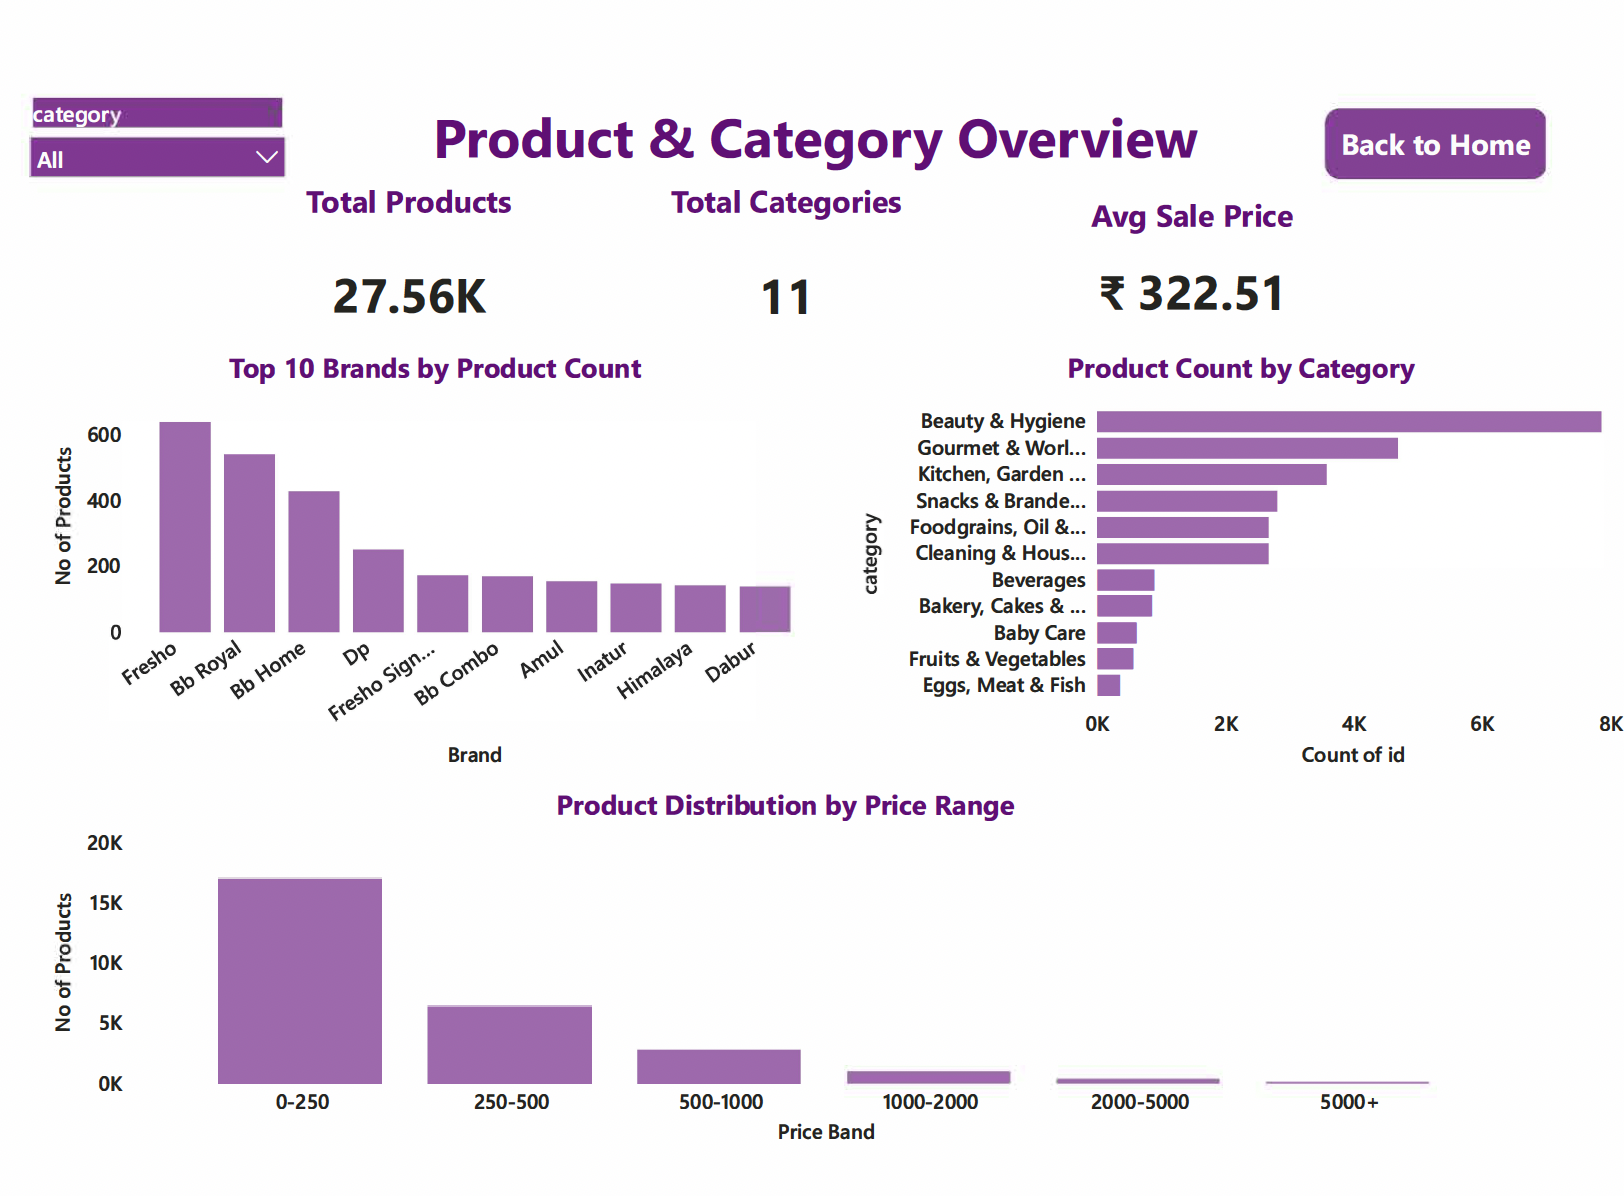

The dashboard page shown, as its layout file describes it:
{"tool":"powerbi","page":{"name":"Product & Category Overview","canvas":[1290,900],"ordinal":1},"visuals":[{"type":"textbox","box":[285,36,699.3,78.8],"z":0},{"type":"actionButton","box":[1030,47.7,175.1,56.4],"z":1000},{"type":"card","title":"Total Products","fields":{"Values":["Count(bigbasket_cleaned.id)"]},"box":[158.5,104.1,300.5,148.8],"z":2000},{"type":"card","title":"Total Categories","fields":{"Values":["Count(bigbasket_cleaned.category)"]},"box":[455.5,104.2,300.4,150.7],"z":3000},{"type":"card","title":"Avg Sale Price","fields":{"Values":["Avg(bigbasket_cleaned.sale_price)"]},"box":[775.9,115.3,300.4,121.9],"z":4000},{"type":"clusteredBarChart","title":"Product Count by Category","fields":{"Category":["bigbasket_cleaned.category"],"Y":["Count(bigbasket_cleaned.id)"]},"box":[659.5,237.2,610.7,333.6],"z":5000},{"type":"clusteredColumnChart","title":"Top 10 Brands by Product Count","fields":{"Y":["Count(bigbasket_cleaned.id)"],"Category":["bigbasket_cleaned.brand"]},"box":[24.4,237.2,610.7,333.6],"z":6000},{"type":"clusteredColumnChart","title":"Product Distribution by Price Range","fields":{"Category":["bigbasket_cleaned.price band"],"Y":["Count(bigbasket_cleaned.id)"]},"box":[24.4,580.8,1162.7,287.1],"z":7000},{"type":"slicer","fields":{"Values":["bigbasket_cleaned.category"]},"box":[0,35.5,221.7,78.7],"z":8000}]}

Visuals, with their boxes on the page's 1290x900 design canvas (x1, y1, x2, y2). These are canvas units, not pixel positions in the 1624x1196 screenshot, which may show the page scaled, cropped or inside an application window:
textbox: [left=285, top=36, right=984, bottom=115]
actionButton: [left=1030, top=48, right=1205, bottom=104]
"Total Products" card: [left=158, top=104, right=459, bottom=253]
"Total Categories" card: [left=456, top=104, right=756, bottom=255]
"Avg Sale Price" card: [left=776, top=115, right=1076, bottom=237]
"Product Count by Category" clusteredBarChart: [left=660, top=237, right=1270, bottom=571]
"Top 10 Brands by Product Count" clusteredColumnChart: [left=24, top=237, right=635, bottom=571]
"Product Distribution by Price Range" clusteredColumnChart: [left=24, top=581, right=1187, bottom=868]
slicer - bigbasket_cleaned.category: [left=0, top=36, right=222, bottom=114]
